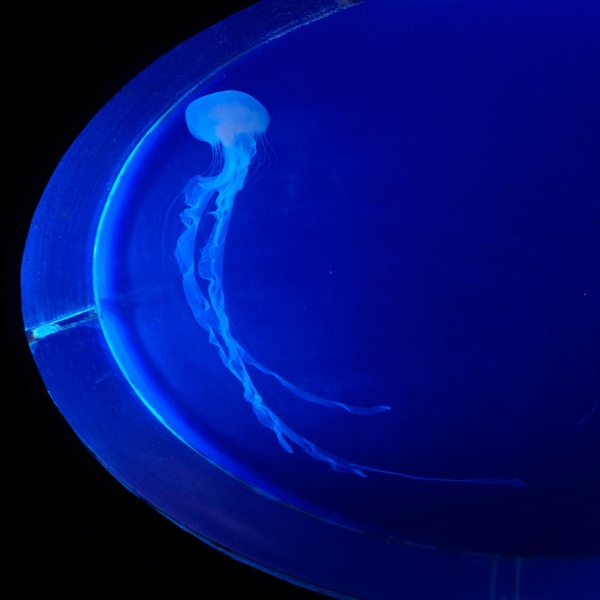Jellyfish: (57, 75, 458, 544)
